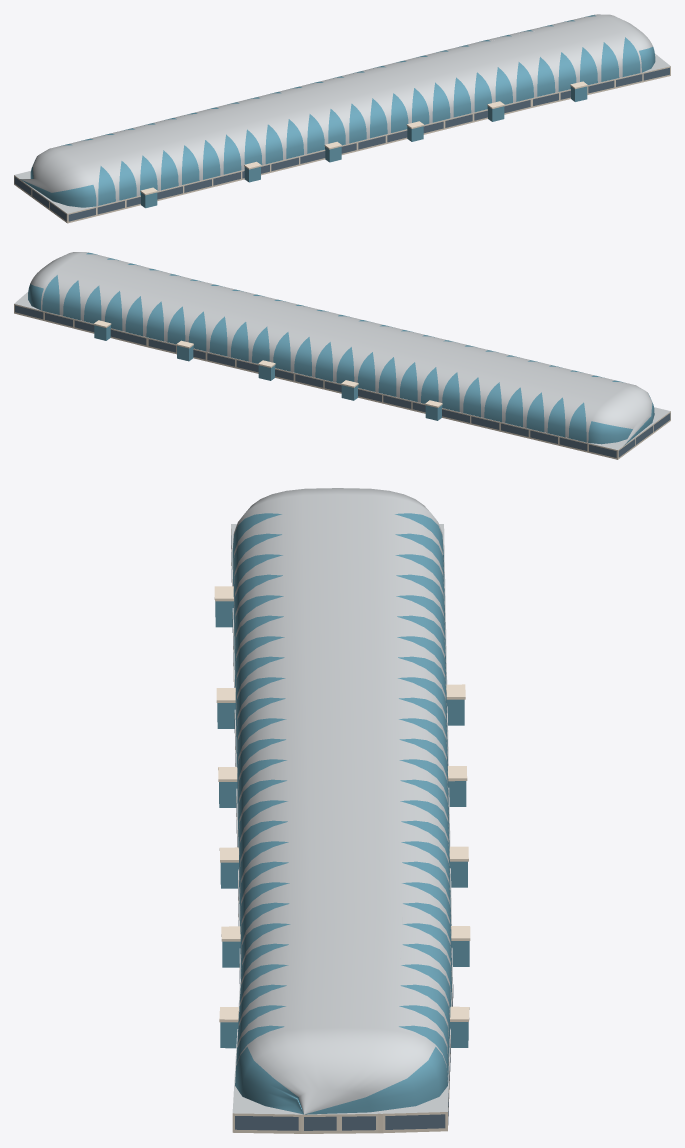
Rendered from dubai-dxb-concourse-a.glb.
The picture shows the model from 3 angles, top to bottom: view 1: azimuth 30°, elevation 25°; view 2: azimuth 150°, elevation 25°; view 3: azimuth 270°, elevation 25°; orthographic projection. The views are drawn at different scales.
Visible parts, largest first — view 1: Dubai International Airport Concourse A; view 2: Dubai International Airport Concourse A; view 3: Dubai International Airport Concourse A.
Part boxes in pixels (box(x1,y1,x2,y2)): Dubai International Airport Concourse A: box(14, 14, 670, 223); Dubai International Airport Concourse A: box(14, 252, 670, 459); Dubai International Airport Concourse A: box(214, 488, 470, 1133).
Bounding box in the file's own units: 655 × 40 × 120.
